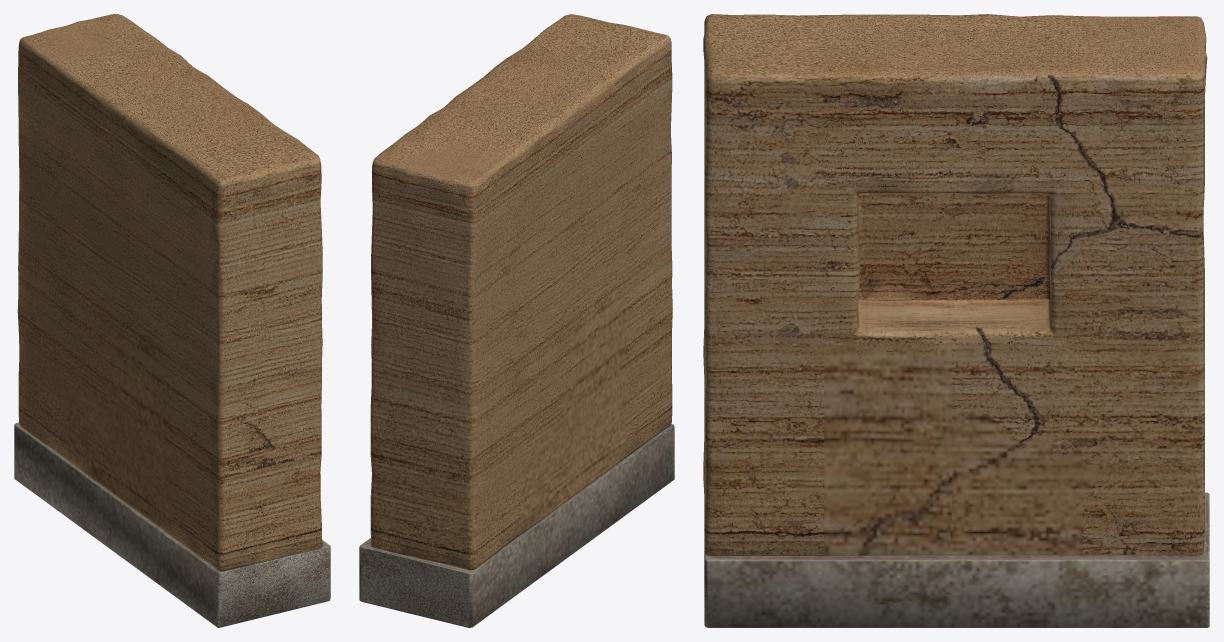
Rendered from tripo_convert_e3a86ce2-669e-4228-a57f-8469c1451d0a.fbx.
3 views of the same model, side by side, from view 1: azimuth 30°, elevation 25°; view 2: azimuth 150°, elevation 25°; view 3: azimuth 270°, elevation 25° (orthographic). The views are drawn at different scales.
Parts seen in each view (by area): view 1: tripo_node_e3a86ce2; view 2: tripo_node_e3a86ce2; view 3: tripo_node_e3a86ce2.
Boxes of the visible parts, <box> form: tripo_node_e3a86ce2: <box>14,14,330,627</box>; tripo_node_e3a86ce2: <box>359,14,674,627</box>; tripo_node_e3a86ce2: <box>703,14,1209,627</box>.
Bounding box in the file's own units: 0.2676 × 0.998 × 0.834.
Materials: 1 (1 with a texture image).
